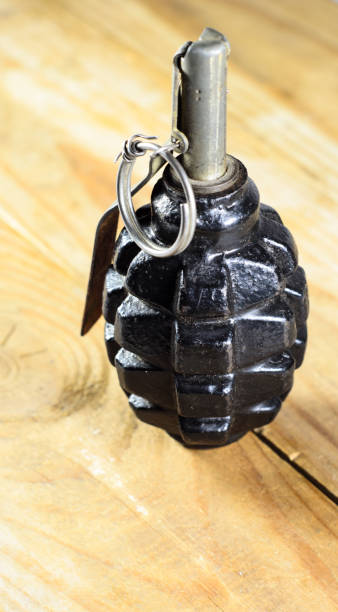e1: (81, 27, 311, 451)
